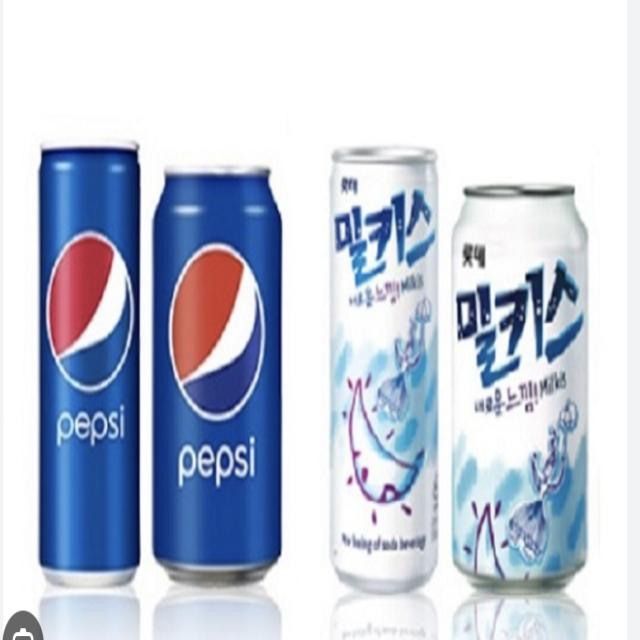recyclable: (445, 160, 606, 612), (144, 144, 288, 592), (29, 114, 152, 606), (319, 122, 443, 596)
